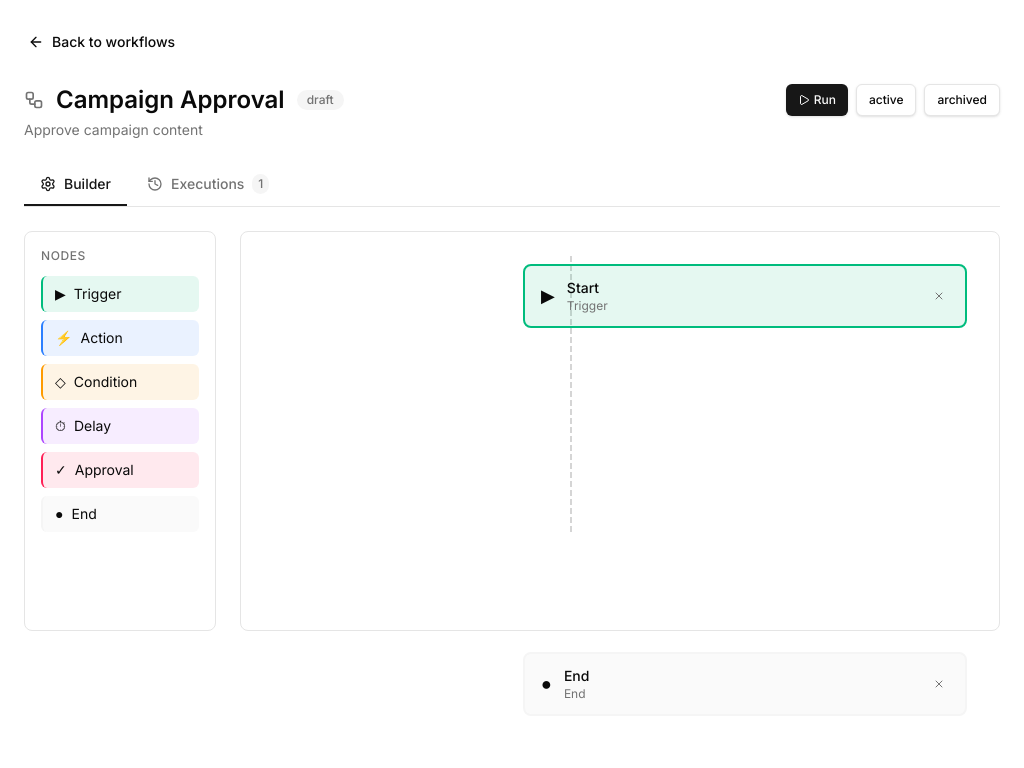
Test: WorkflowDetailPage › switches to executions tab
The width and height of the screenshot is (1024, 768).
Click the button "Executions 1". click: (208, 185)
box: [131,164,285,206]
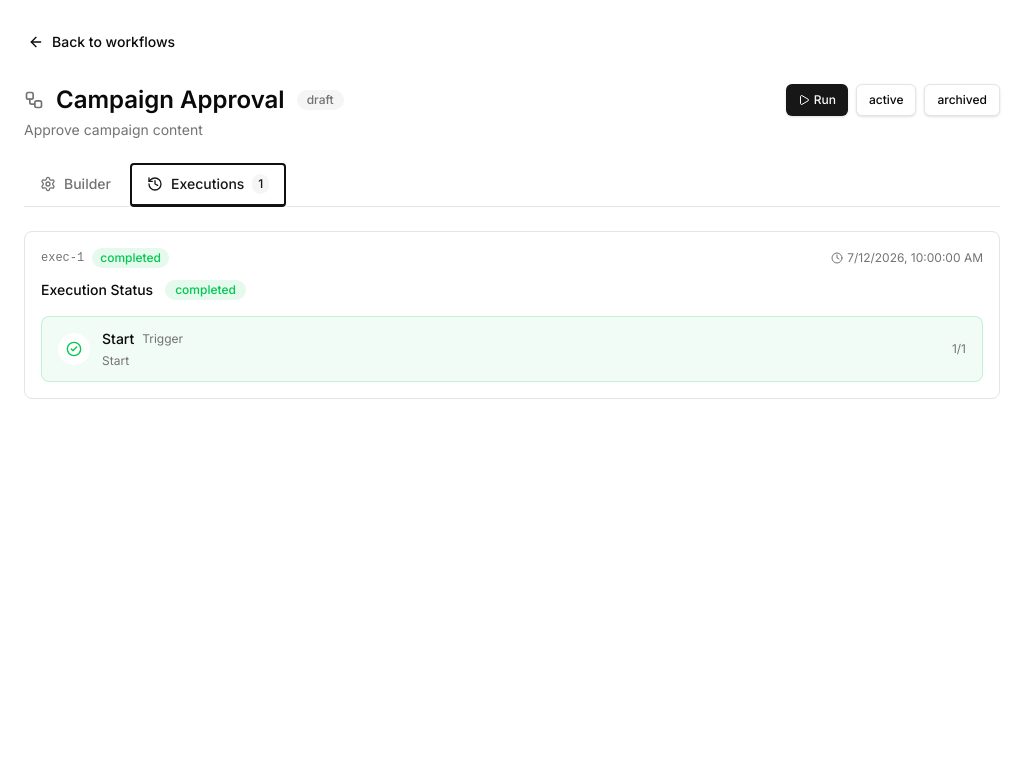
expect the text "exec-1" is shown: met, box [41,250,84,266]
expect the text "completed" next to "exec-1" is shown: met, box [100,250,161,265]
